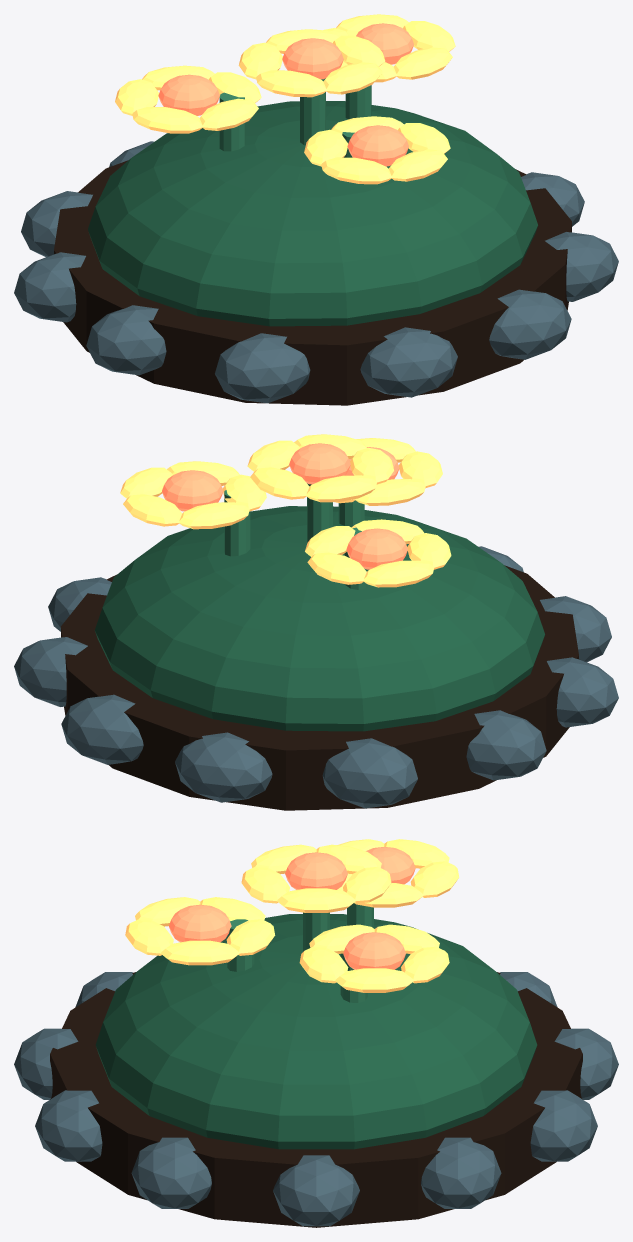
File: arctic_flower.glb
3 renders of one model, top to bottom at view 1: azimuth 30°, elevation 25°; view 2: azimuth 150°, elevation 25°; view 3: azimuth 270°, elevation 25°, orthographic.
Visible parts, largest first — view 1: arctic_flower; view 2: arctic_flower; view 3: arctic_flower.
Part boxes in pixels (bbox=[...]): arctic_flower: bbox=[14, 14, 618, 405]; arctic_flower: bbox=[14, 434, 618, 810]; arctic_flower: bbox=[14, 839, 618, 1227].
Bounding box in the file's own units: 1.27 × 0.6306 × 1.25.
